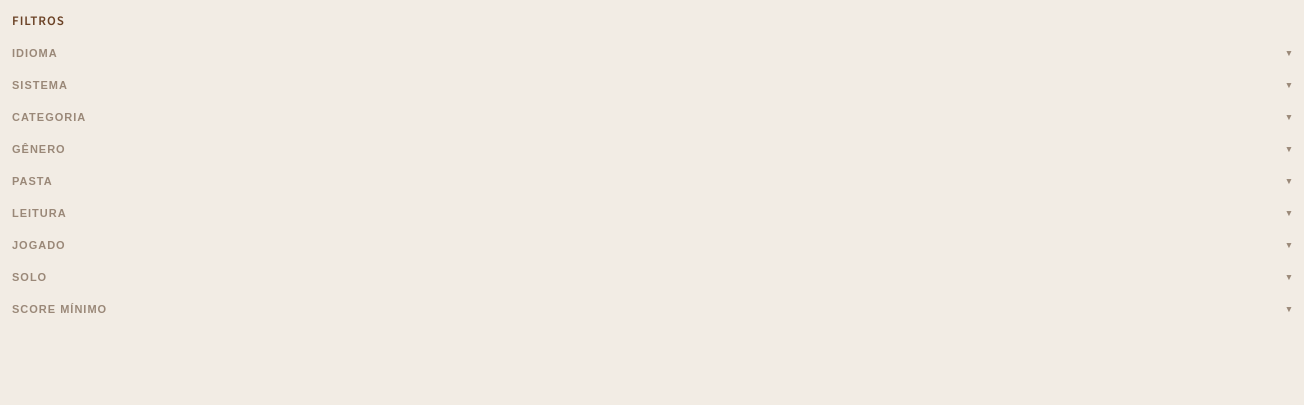
it: FilterSidebar — filtros pessoais › renders read status options when section expanded
Click the button "Leitura ▾": (39, 213) [12,205,1292,221]
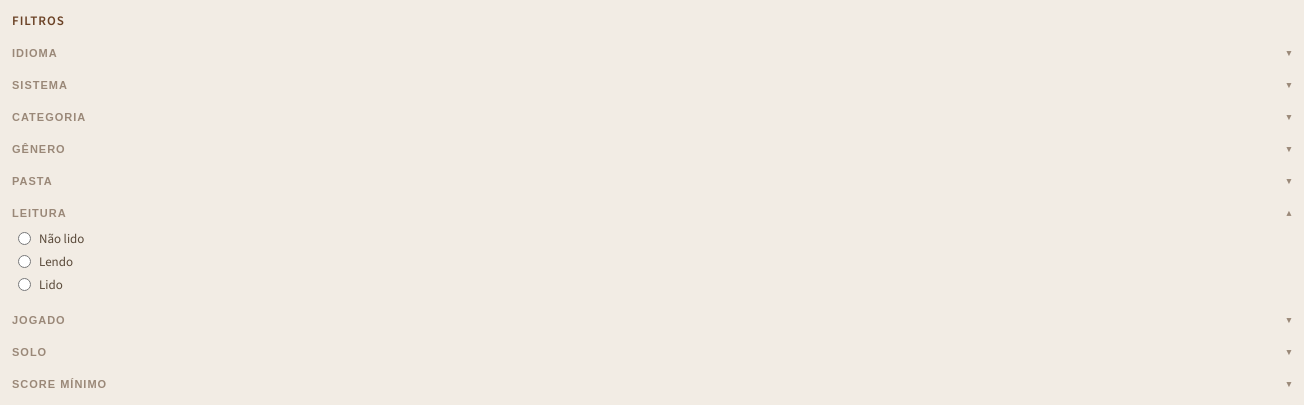
Expected: the radio button labelled "Não lido" is shown, [18,232,31,245]
Expected: the radio button labelled "Lendo" is shown, [18,255,31,268]
Expected: the radio button labelled "Lido" is shown, [18,278,31,291]
